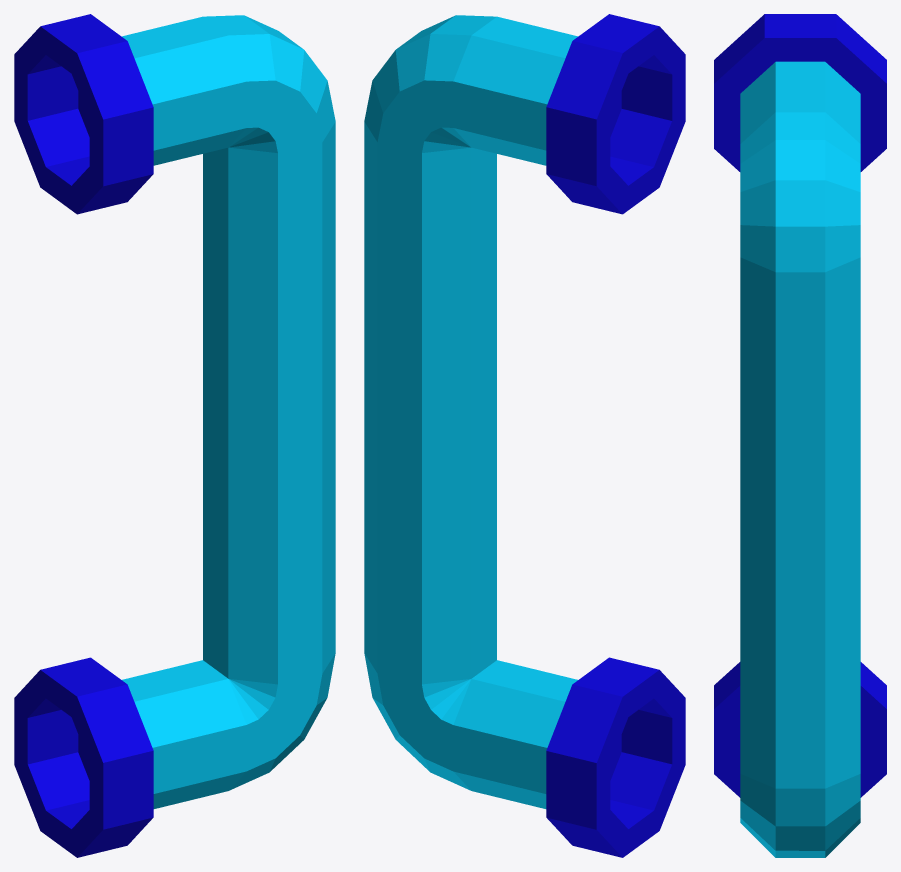
Rendered from pipes 9.0.fbx.
3 views of the same model, side by side, from view 1: azimuth 30°, elevation 25°; view 2: azimuth 150°, elevation 25°; view 3: azimuth 270°, elevation 25° (orthographic). The views are drawn at different scales.
Parts seen in each view (by area): view 1: pipe 6; view 2: pipe 6; view 3: pipe 6.
Boxes of the visible parts, x1=… form: pipe 6: x1=14, y1=14, x2=335, y2=857; pipe 6: x1=364, y1=14, x2=685, y2=857; pipe 6: x1=714, y1=14, x2=886, y2=857.
Size of the model in its own units: 58.74 by 171 by 34.27.
